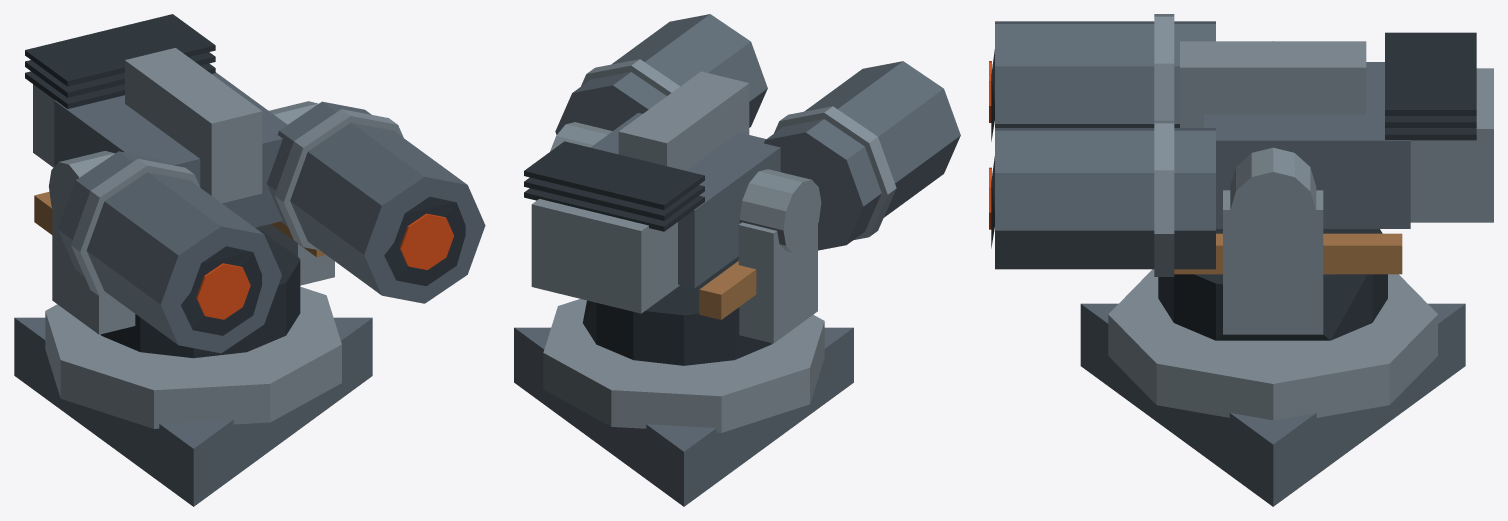
The model's file is kiln_t1_d0.meshopt.glb.
3 renders of one model, left to right at view 1: azimuth 30°, elevation 25°; view 2: azimuth 150°, elevation 25°; view 3: azimuth 270°, elevation 25°, orthographic. The views are drawn at different scales.
Visible parts, largest first — view 1: ROOT_ARMOR_GEOMETRY; view 2: ROOT_ARMOR_GEOMETRY; view 3: ROOT_ARMOR_GEOMETRY.
Boxes of the visible parts, x1=… form: ROOT_ARMOR_GEOMETRY: x1=14, y1=14, x2=485, y2=506; ROOT_ARMOR_GEOMETRY: x1=514, y1=14, x2=960, y2=506; ROOT_ARMOR_GEOMETRY: x1=989, y1=14, x2=1493, y2=506.
Size of the model in its own units: 1.5 by 1.38 by 1.76.
